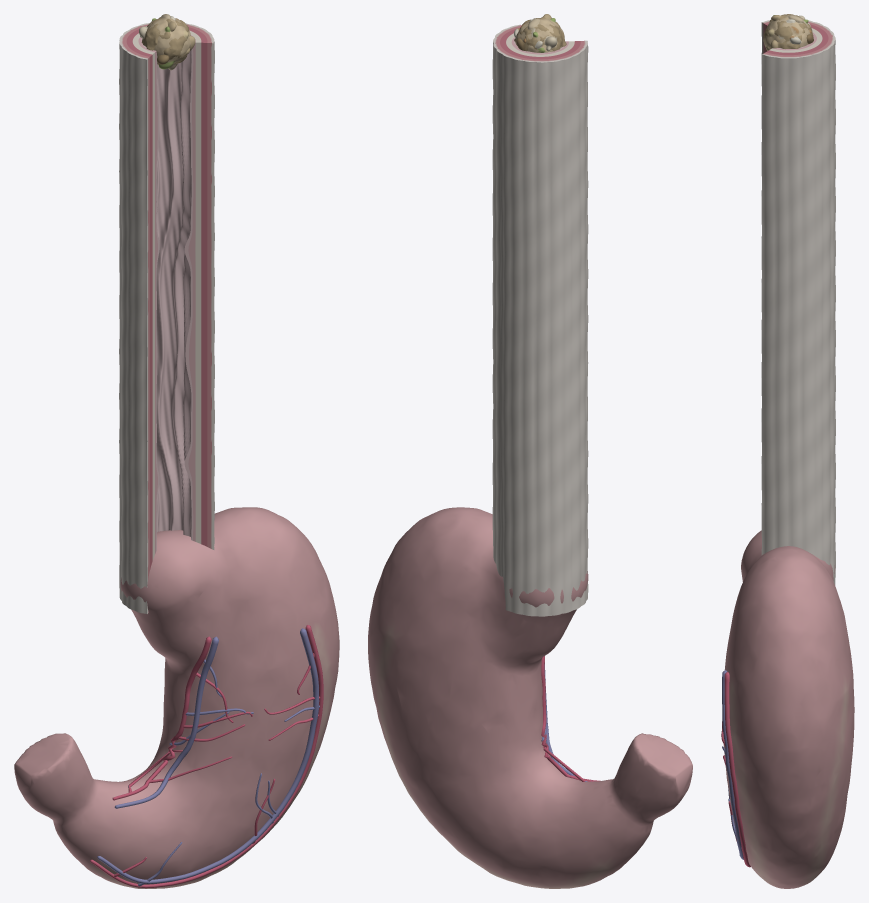
The model's file is gut.glb.
3 renders of one model, left to right at view 1: azimuth 30°, elevation 25°; view 2: azimuth 150°, elevation 25°; view 3: azimuth 270°, elevation 25°, orthographic.
Visible parts, largest first — view 1: stomach, oesophagus, bolusDry, bolusSoft; view 2: stomach, oesophagus, bolusDry, bolusSoft; view 3: oesophagus, stomach, bolusDry, bolusSoft.
Boxes of the visible parts, box(x1,y1,x2,y2) form: stomach: box(14, 507, 339, 888); oesophagus: box(119, 23, 214, 613); bolusDry: box(139, 14, 195, 70); bolusSoft: box(143, 16, 190, 69); stomach: box(368, 507, 692, 888); oesophagus: box(492, 24, 588, 616); bolusDry: box(514, 14, 566, 51); bolusSoft: box(514, 18, 564, 52); oesophagus: box(761, 20, 835, 585); stomach: box(721, 530, 854, 888); bolusDry: box(763, 14, 813, 50); bolusSoft: box(763, 14, 812, 47).
Bounding box in the file's own units: 14.64 × 39.13 × 5.5.
